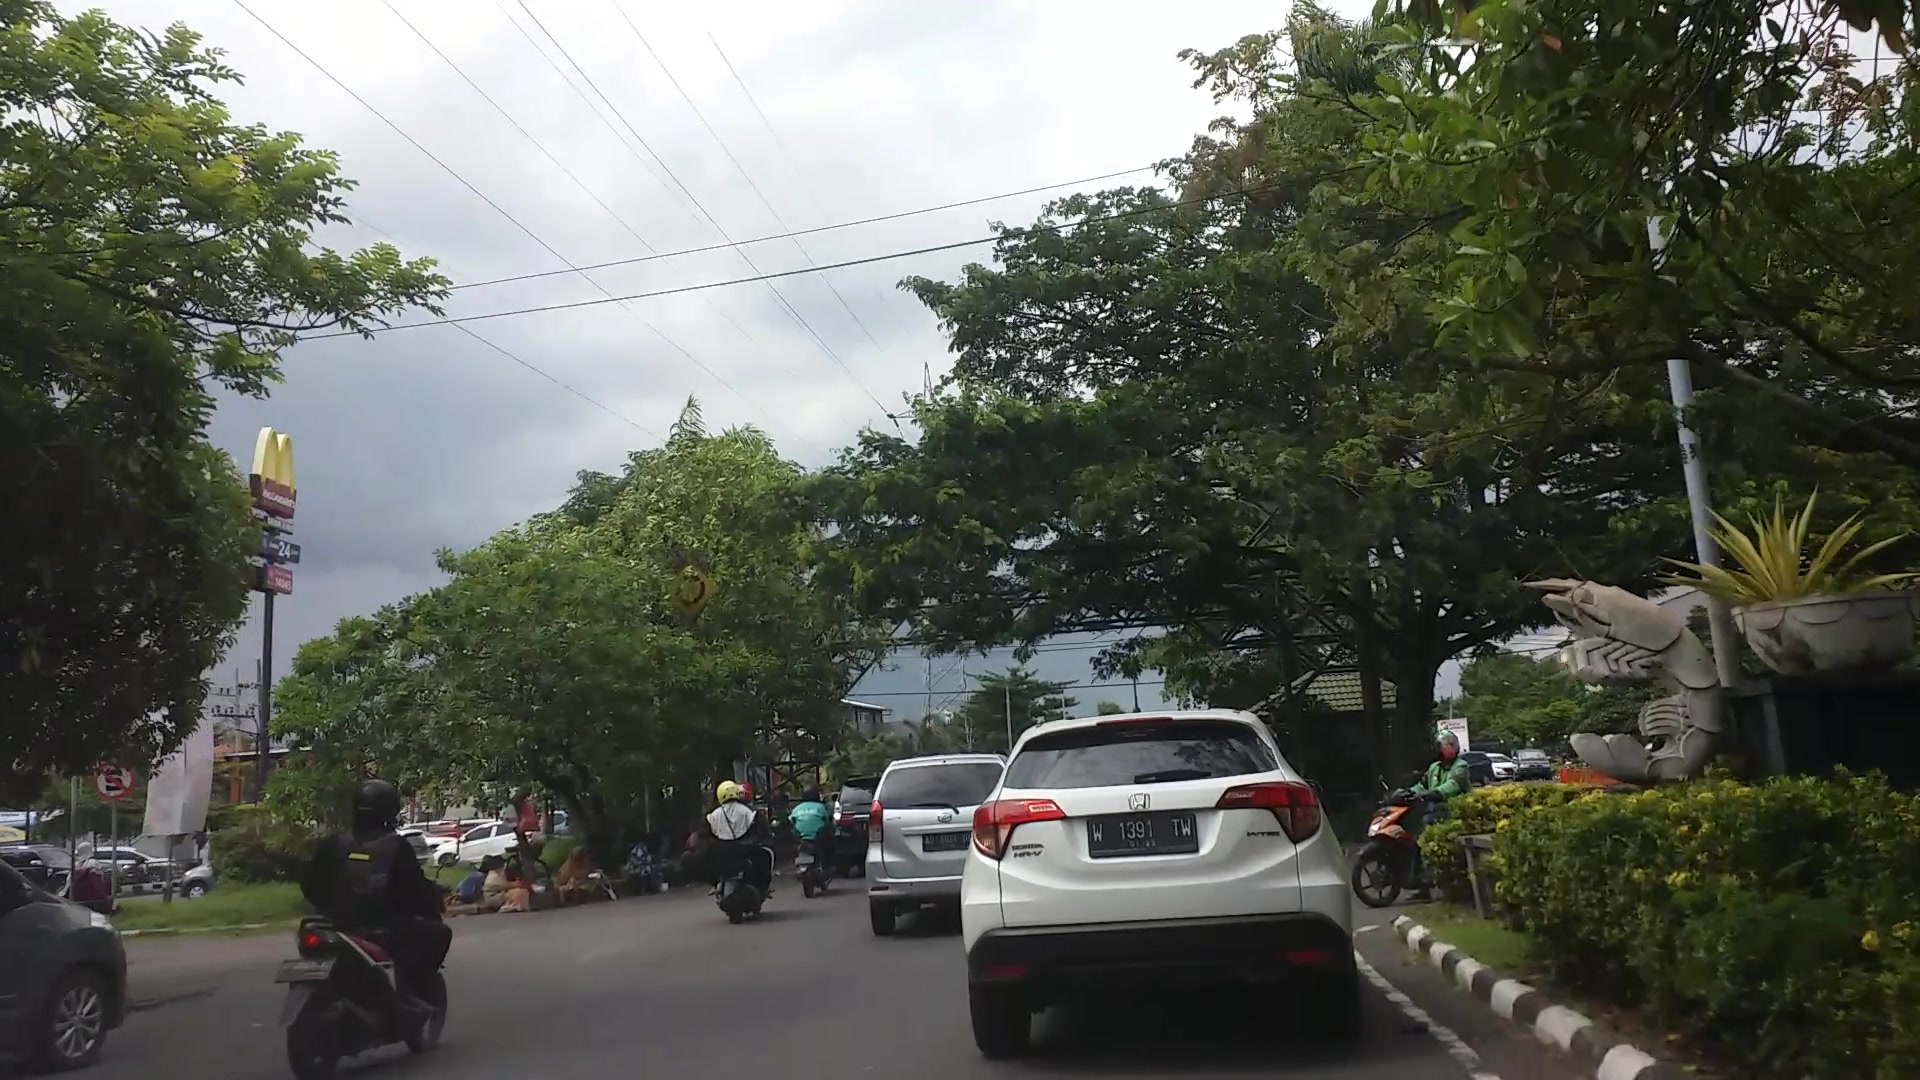plate_positive: (1087, 814, 1199, 858)
